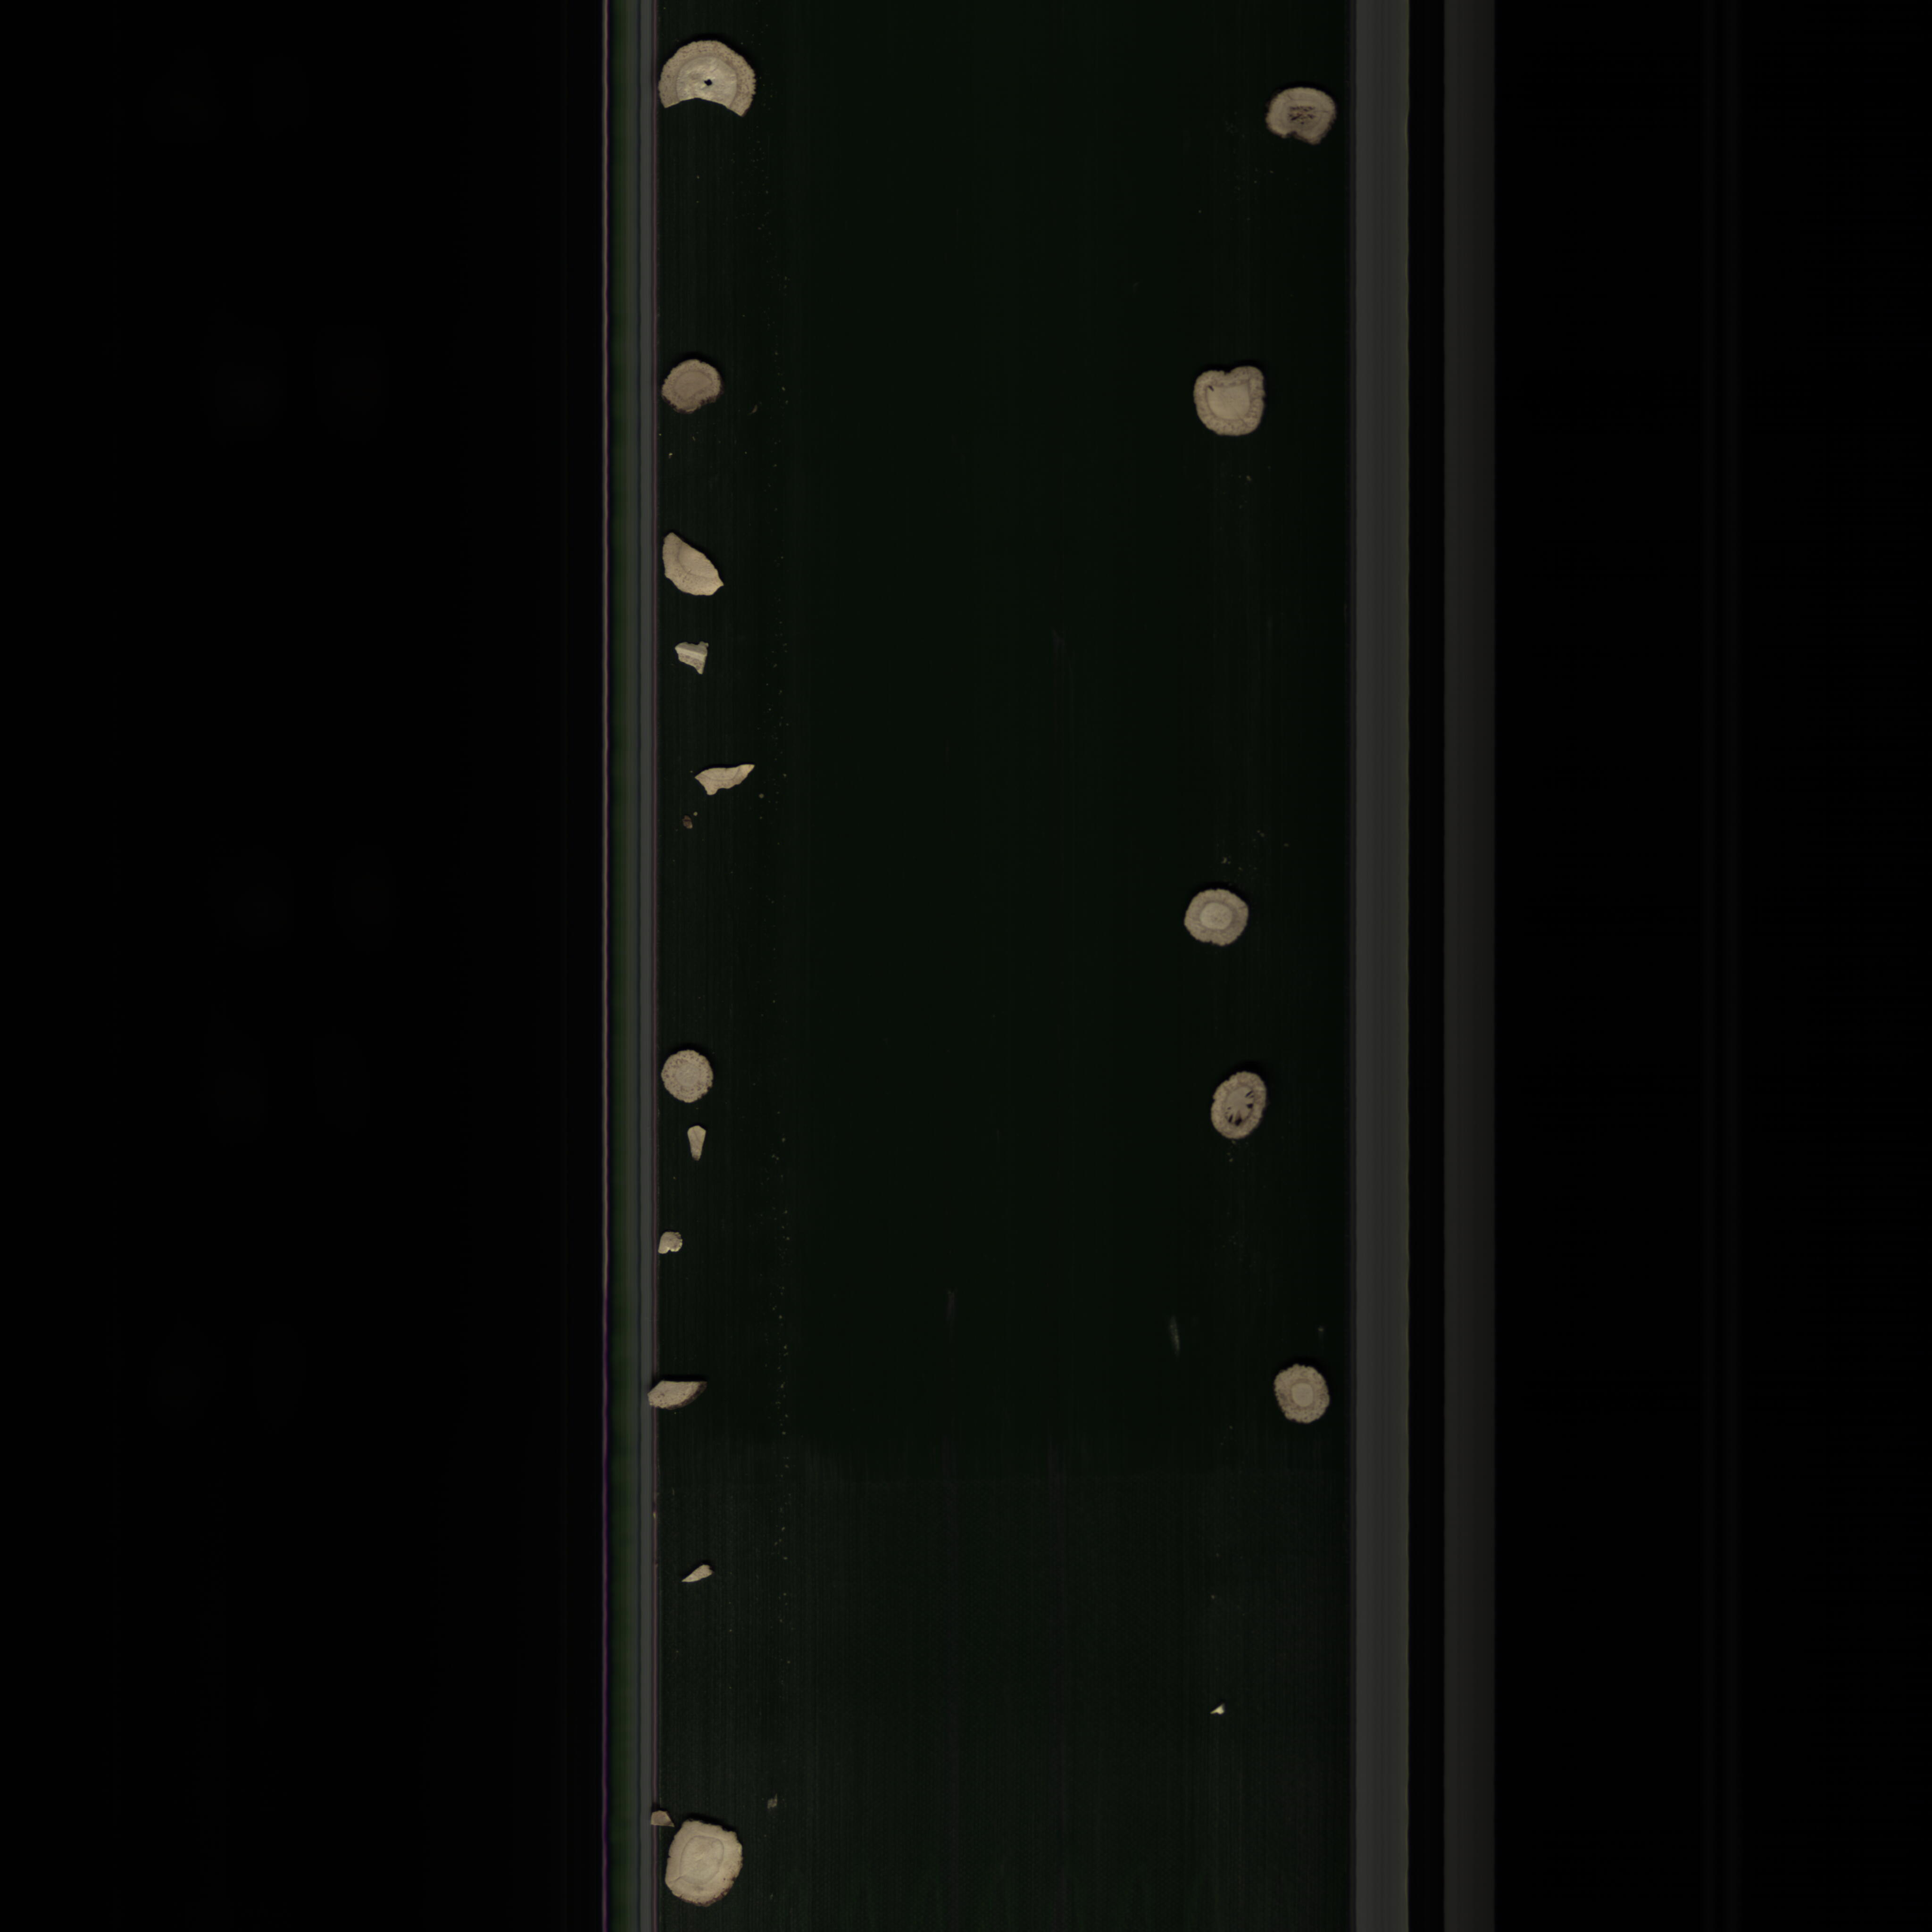debris: (655, 35, 759, 129), (655, 520, 727, 602), (640, 1369, 724, 1415), (688, 759, 757, 800), (665, 637, 722, 686), (649, 1219, 685, 1261), (679, 1555, 718, 1585), (686, 1116, 706, 1164)
hole: (1205, 1063, 1272, 1148)
moldy: (1263, 81, 1338, 156)
